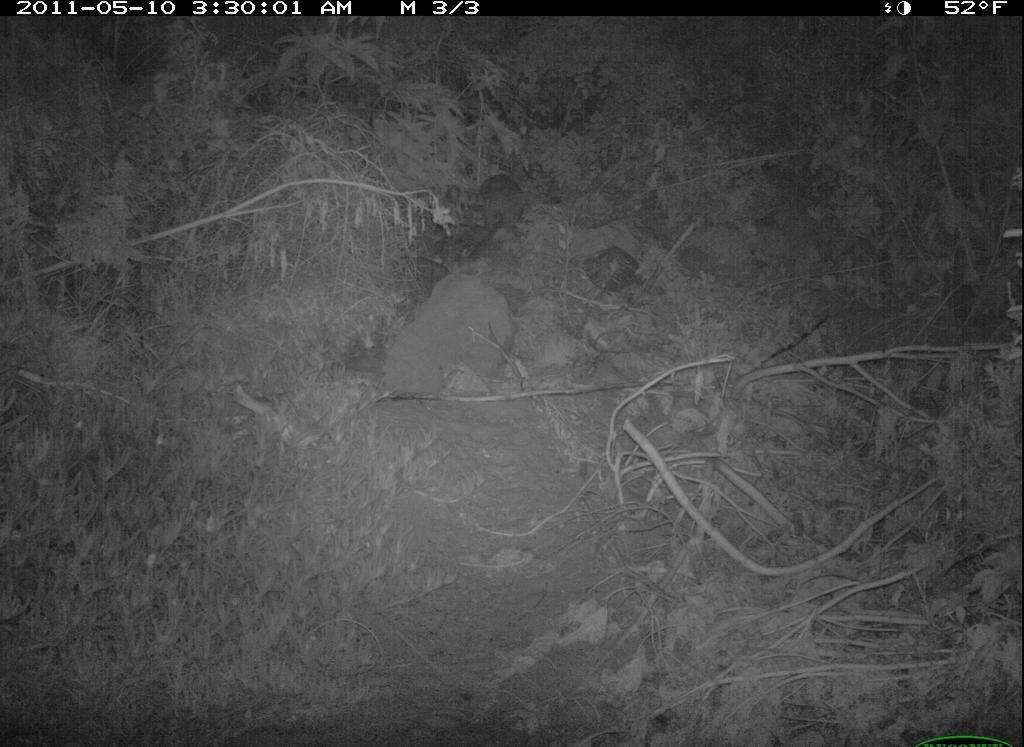raccoon: (438, 155, 556, 257)
